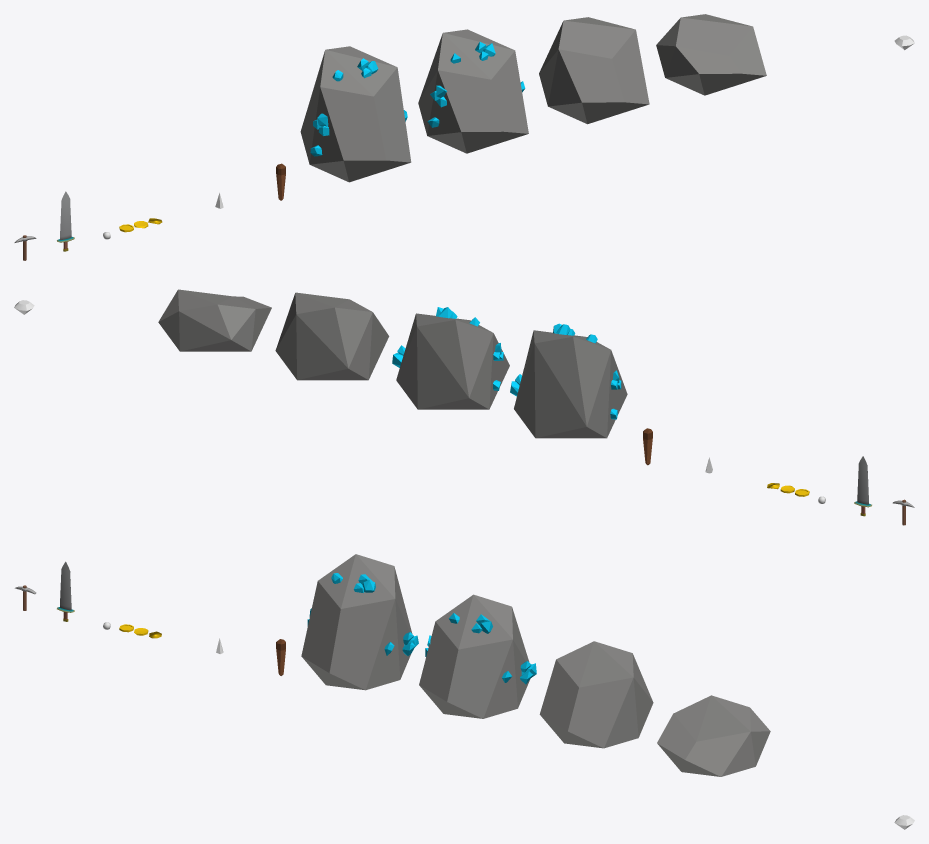
Rendered from GameEnvierments.fbx.
3 views of the same model, one above another, from view 1: azimuth 30°, elevation 25°; view 2: azimuth 150°, elevation 25°; view 3: azimuth 330°, elevation 25° (orthographic).
Parts seen in each view (by area): view 1: Куб.004, Куб.006, Куб.008, Куб.009, Cube; view 2: Куб.004, Куб.006, Куб.008, Куб.009, Cube; view 3: Куб.004, Куб.006, Куб.008, Куб.009, Cube.
Boxes of the visible parts, x1,y1,x2,y2 form: Куб.004: (300, 46, 411, 182); Куб.006: (418, 29, 528, 153); Куб.008: (539, 17, 649, 124); Куб.009: (656, 14, 766, 95); Cube: (57, 191, 74, 251); Куб.004: (510, 323, 627, 438); Куб.006: (392, 307, 509, 409); Куб.008: (275, 292, 389, 380); Куб.009: (158, 289, 271, 351); Cube: (854, 456, 871, 516); Куб.004: (301, 554, 418, 690); Куб.006: (419, 594, 536, 718); Куб.008: (539, 641, 653, 748); Куб.009: (657, 695, 770, 776); Cube: (57, 561, 74, 621).
Size of the model in its own units: 22.53 by 3.04 by 2.29.
